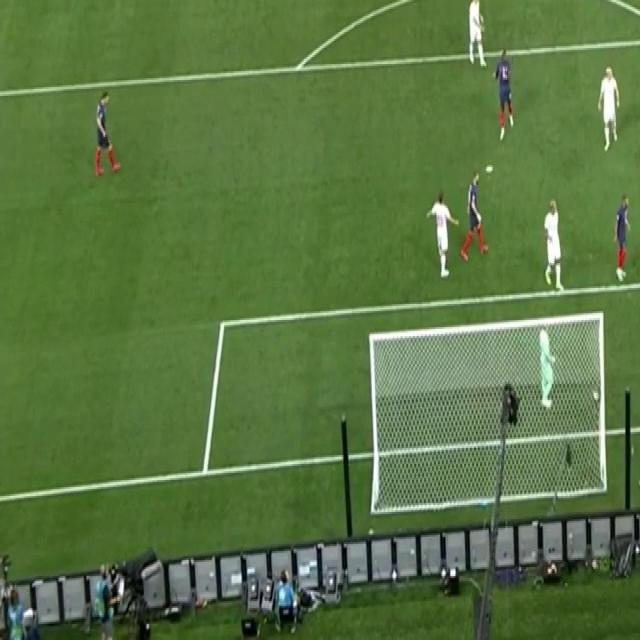player-white: (425, 189, 460, 279), (460, 169, 490, 264), (94, 88, 122, 178), (491, 50, 515, 144), (543, 198, 565, 292), (598, 68, 620, 154), (613, 196, 633, 286), (537, 323, 557, 409), (466, 0, 487, 70)
